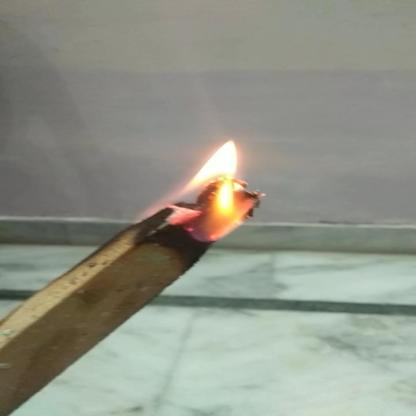fire: (141, 134, 284, 248)
